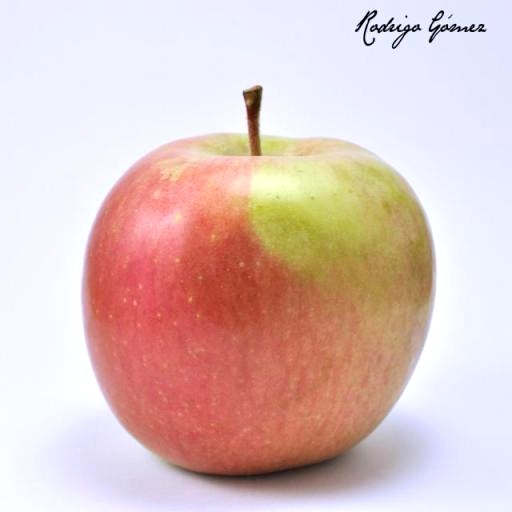fruit: (124, 76, 380, 229), (37, 158, 140, 512), (124, 46, 373, 170), (124, 51, 373, 159), (256, 105, 258, 106)
